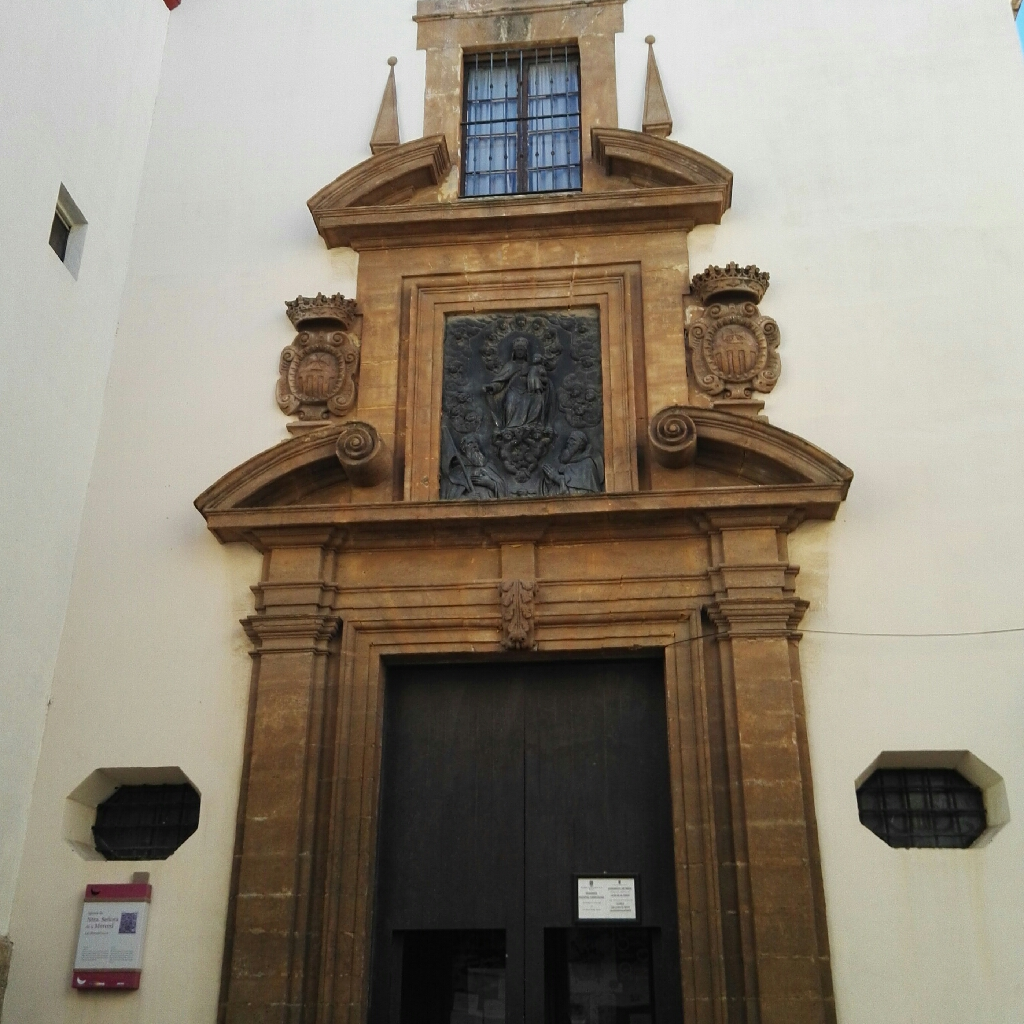fronton-partido: (191, 398, 857, 538), (301, 118, 736, 231)
vano-adintelado: (314, 598, 718, 1024), (408, 283, 639, 505)
